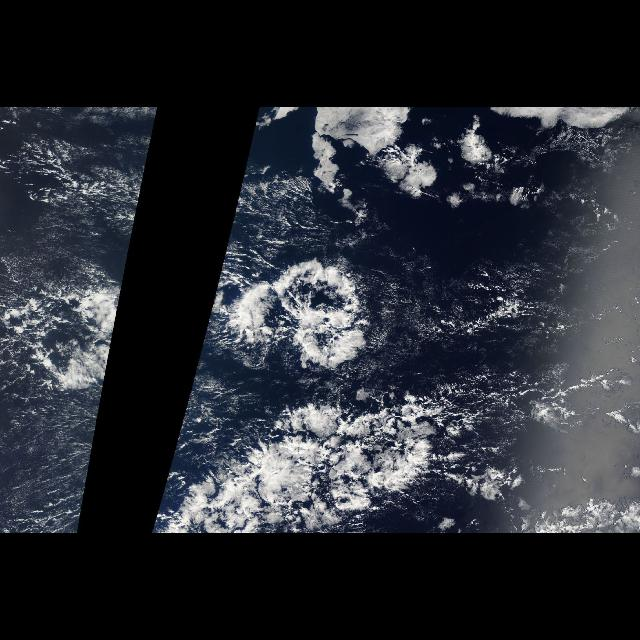Fish: (148, 250, 482, 532)
Flower: (154, 395, 570, 533), (256, 107, 454, 229), (217, 244, 391, 376)
Gravel: (414, 250, 610, 356), (5, 111, 158, 239)
Sugar: (375, 220, 639, 378), (0, 345, 112, 533), (0, 130, 154, 266), (221, 130, 359, 266)
